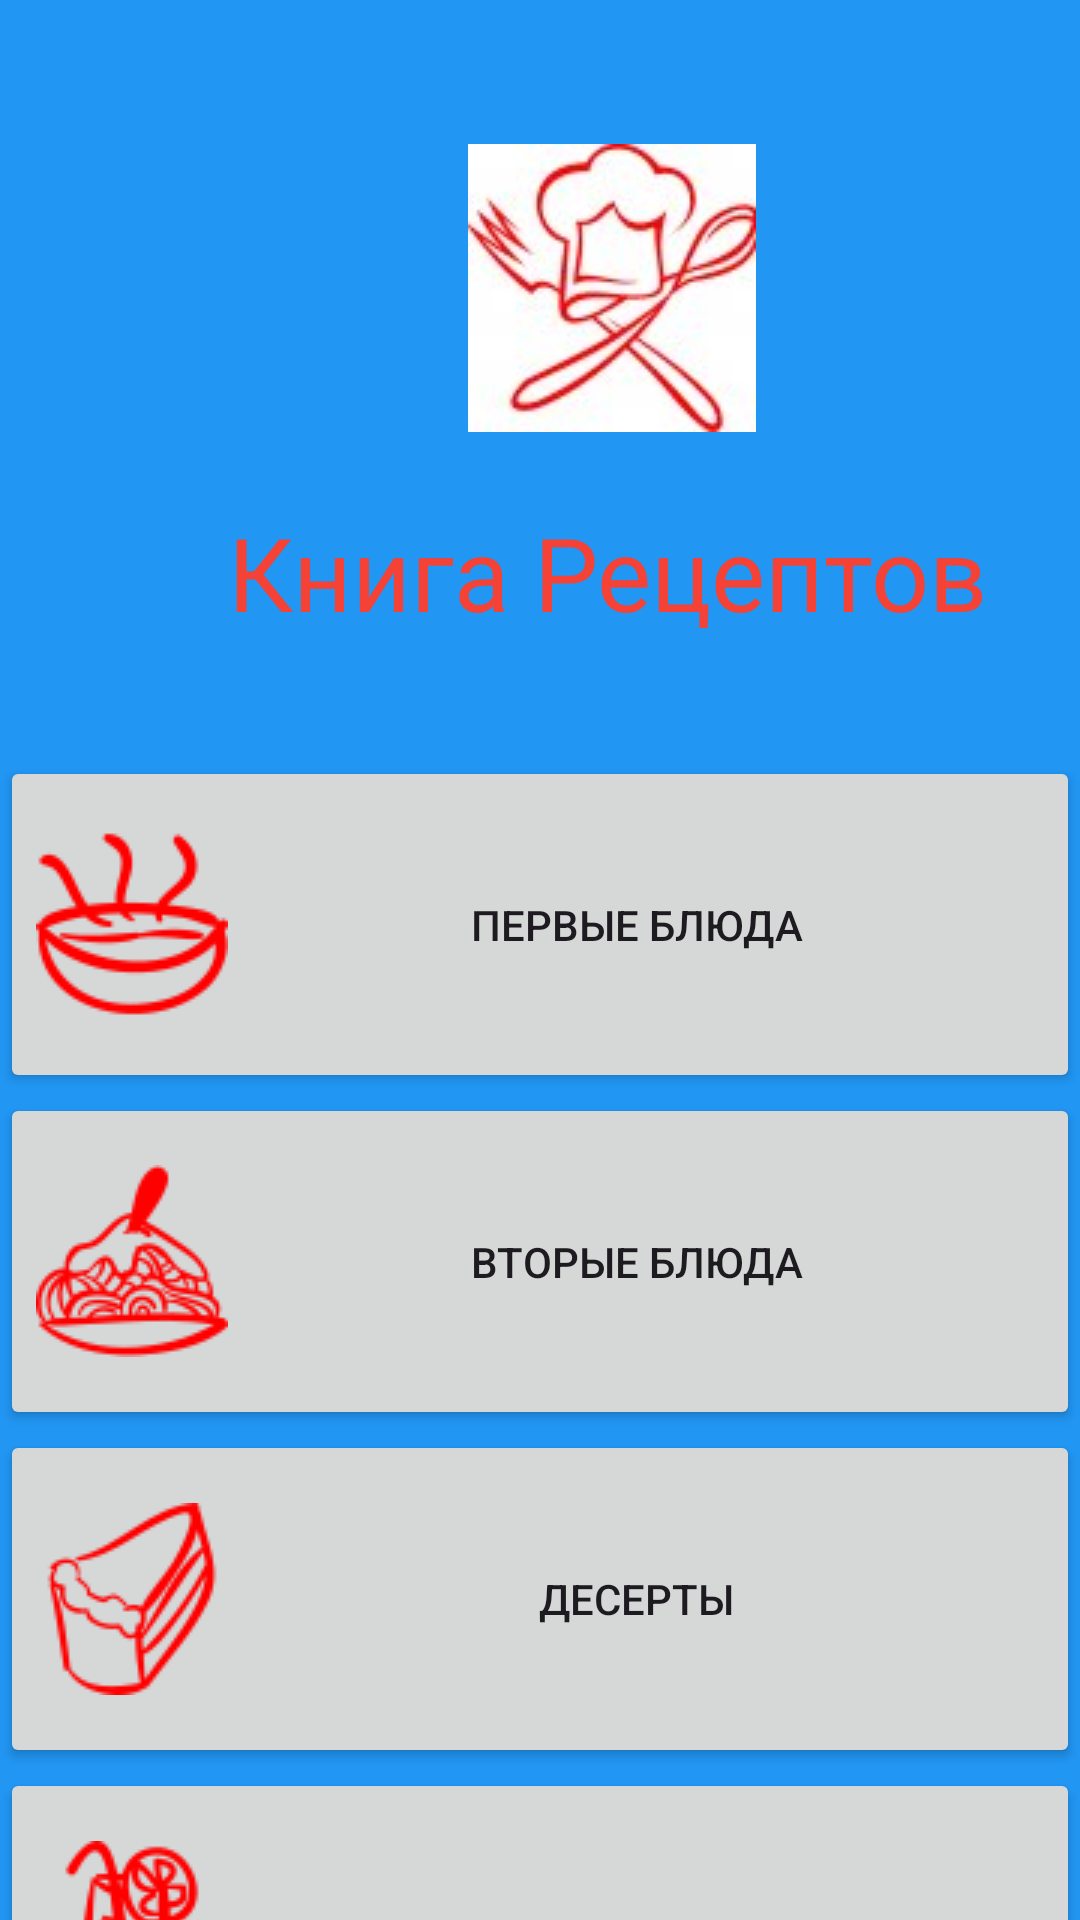

Screen size 1080px×1920px. Icon name, then its box in pixels as region(x1, y1, x2, y2):
cap: region(468, 144, 756, 432)
